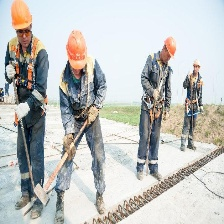helmet: (64, 30, 89, 72), (8, 1, 36, 35), (163, 32, 176, 60), (192, 58, 201, 71)
no-vest: (8, 36, 49, 113), (59, 66, 106, 129), (136, 57, 169, 115), (185, 74, 203, 115)
person: (4, 1, 54, 216), (57, 30, 111, 221), (136, 32, 175, 185), (181, 55, 205, 149)
